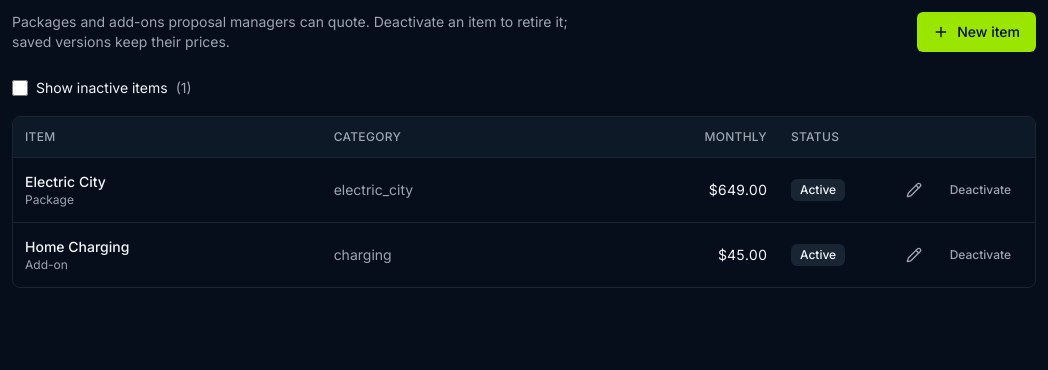
Scenario: CataloguePanel › lists active items, packages first, and reveals inactive on request
Click the checkbox labelled "Show inactive items (1)": coordinates (20, 88) [12,80,28,96]
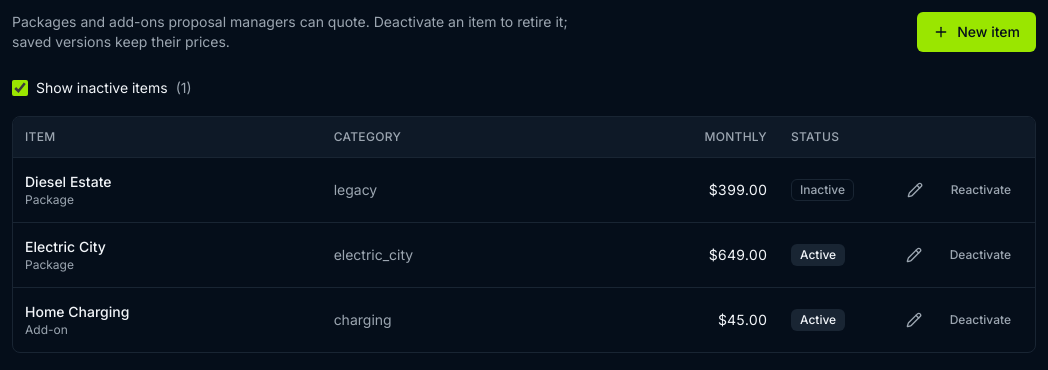
Now the cell "Diesel Estate Package" is shown, box [13,157,322,222]
Now the text "Inactive" is shown, box [791,178,854,200]
